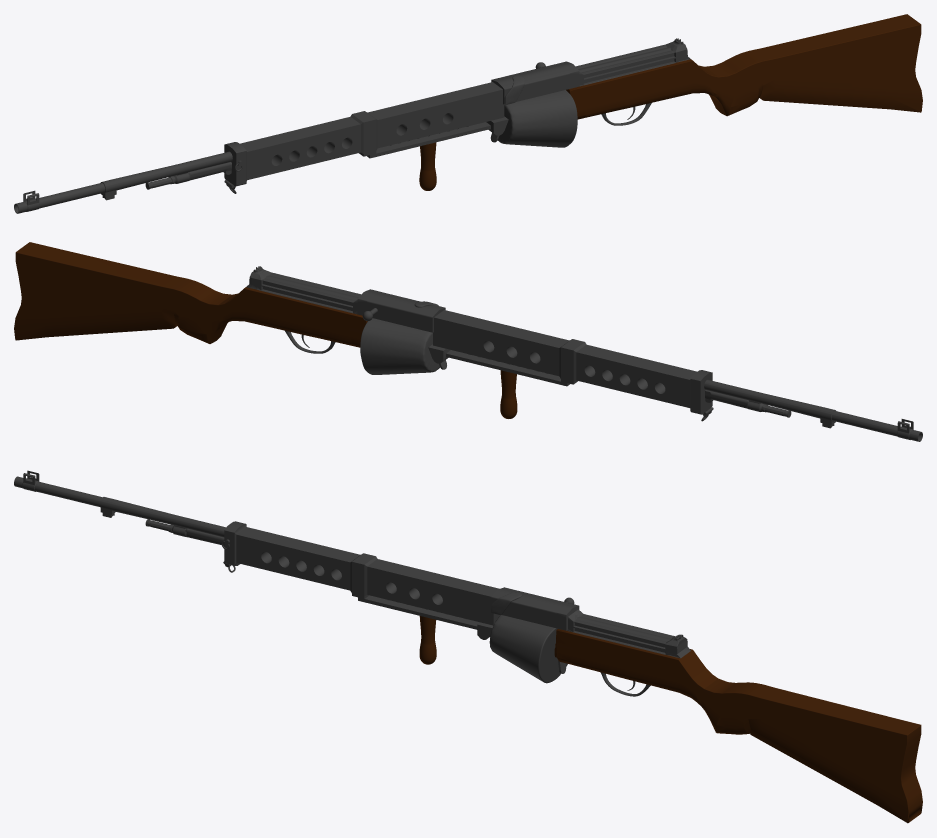
Rendered from Farquhar Hill Rifle Mid Poly.fbx.
The picture shows the model from 3 angles, top to bottom: view 1: azimuth 30°, elevation 25°; view 2: azimuth 150°, elevation 25°; view 3: azimuth 330°, elevation 25°; orthographic projection.
Parts seen in each view (by area): view 1: polySurface17; view 2: polySurface17; view 3: polySurface17.
Boxes of the visible parts, x1=… form: polySurface17: x1=14, y1=14, x2=922, y2=213; polySurface17: x1=14, y1=242, x2=922, y2=441; polySurface17: x1=14, y1=470, x2=922, y2=823.
Size of the model in its own units: 99.99 by 13.82 by 7.24.
